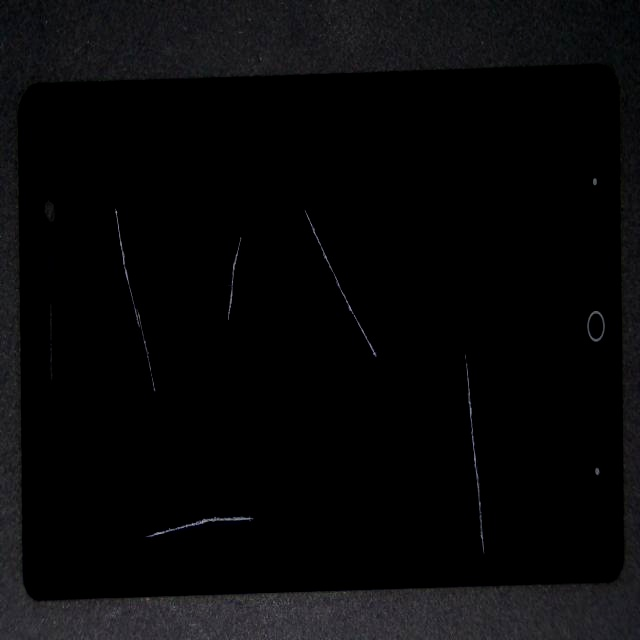scratch: (208, 272, 640, 640), (167, 255, 371, 640), (27, 0, 175, 405), (236, 301, 551, 469)
